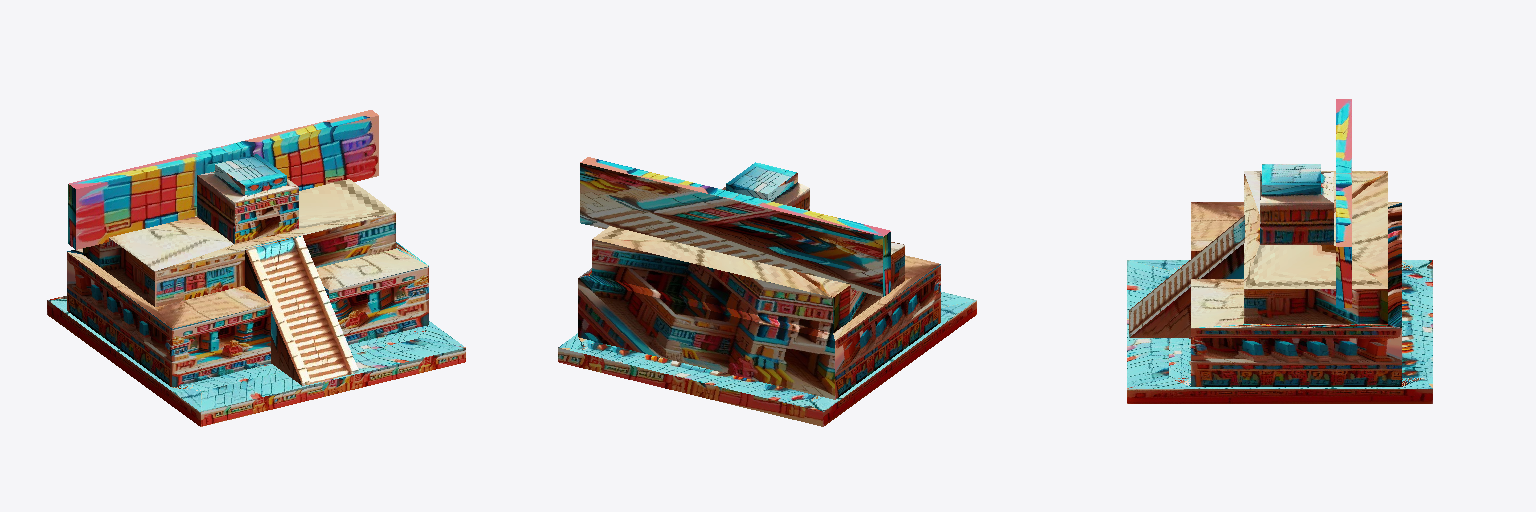
3 views of the same model, side by side, from view 1: azimuth 30°, elevation 25°; view 2: azimuth 150°, elevation 25°; view 3: azimuth 270°, elevation 25° (orthographic).
Parts seen in each view (by area): view 1: Cube, Cube.001, Cube.002; view 2: Cube, Cube.001; view 3: Cube, Cube.002, Cube.001.
Boxes of the visible parts, x1=… form: Cube: x1=47, y1=154, x2=465, y2=426; Cube.001: x1=68, y1=110, x2=378, y2=249; Cube.002: x1=245, y1=235, x2=358, y2=385; Cube: x1=558, y1=162, x2=976, y2=426; Cube.001: x1=580, y1=157, x2=890, y2=296; Cube: x1=1127, y1=164, x2=1432, y2=403; Cube.002: x1=1129, y1=215, x2=1244, y2=337; Cube.001: x1=1336, y1=99, x2=1351, y2=307.
Bounding box in the file's own units: 19.87 × 10.37 × 17.38.
1 materials, 1 textured.